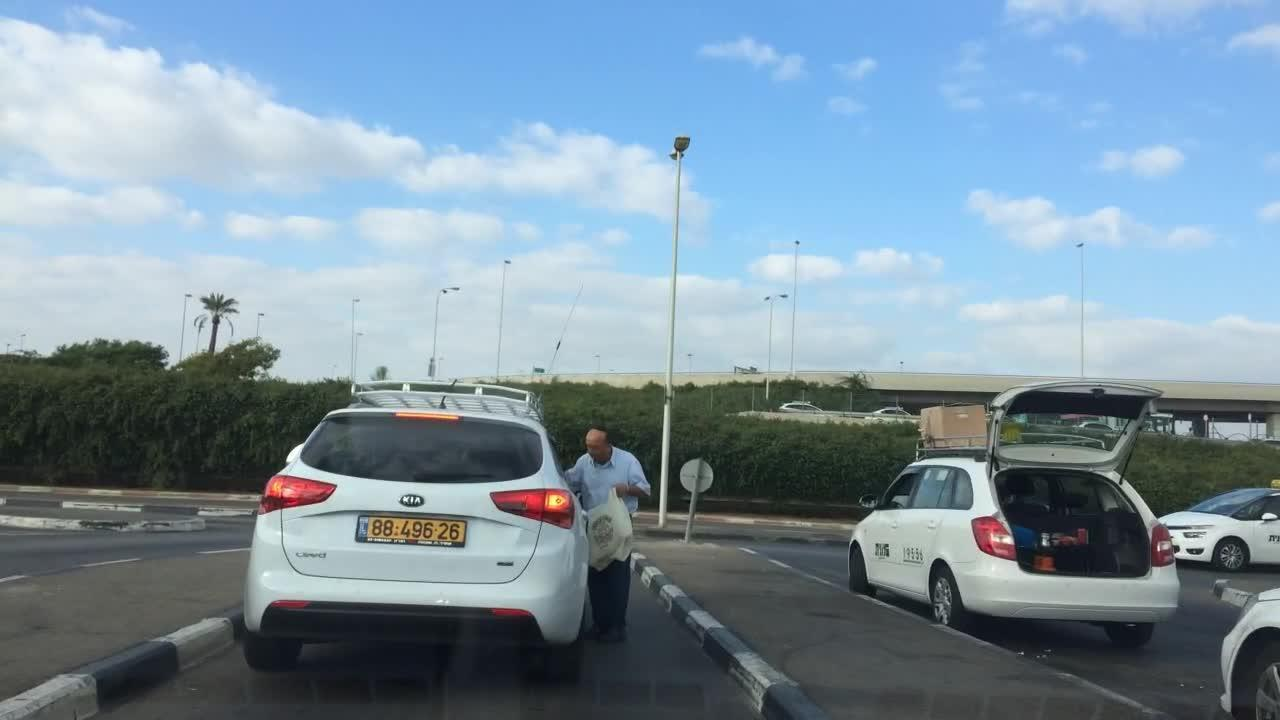kia: (392, 486, 428, 516)
